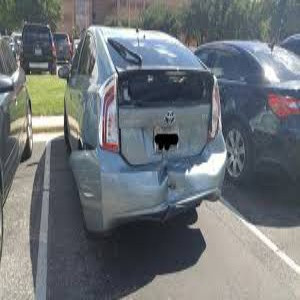bumper: (117, 161, 217, 213)
